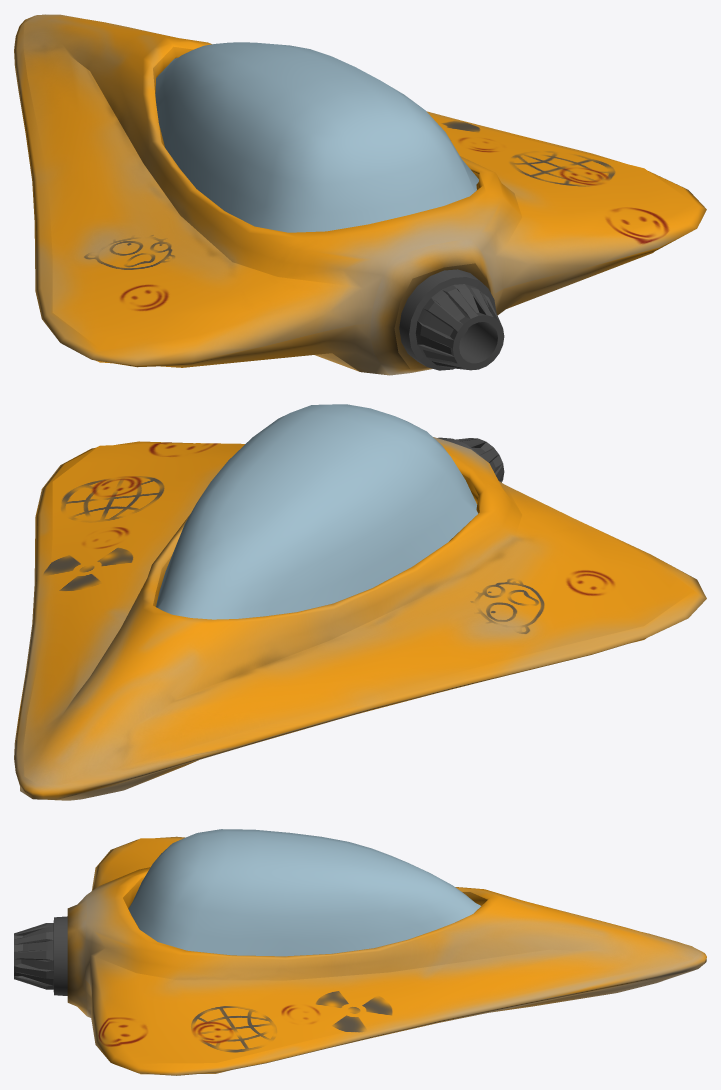
File: ship5.obj
3 views of the same model, one above another, from view 1: azimuth 30°, elevation 25°; view 2: azimuth 150°, elevation 25°; view 3: azimuth 270°, elevation 25° (orthographic). The views are drawn at different scales.
Visible parts, largest first — view 1: shipModelGroup pCube1, pCylinder1 shipModelGroup; view 2: shipModelGroup pCube1, pCylinder1 shipModelGroup; view 3: shipModelGroup pCube1, pCylinder1 shipModelGroup.
Part boxes in pixels (x1,y1,x2,y2): shipModelGroup pCube1: (14, 14, 706, 375); pCylinder1 shipModelGroup: (399, 269, 504, 370); shipModelGroup pCube1: (14, 404, 706, 800); pCylinder1 shipModelGroup: (437, 437, 504, 482); shipModelGroup pCube1: (67, 829, 706, 1075); pCylinder1 shipModelGroup: (14, 916, 67, 995).
Size of the model in its own units: 259 by 92.29 by 319.
Materials: 3 (1 with a texture image).
